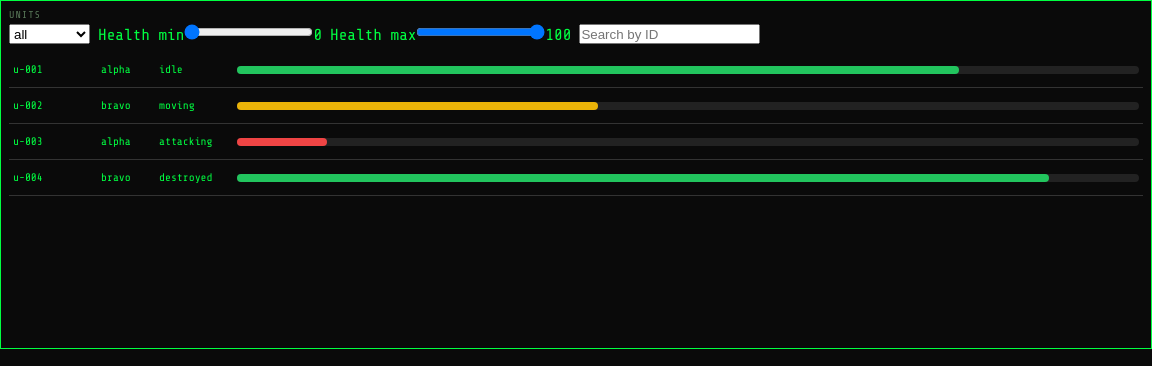
UNITS-01: Filter bar › UNITS-01-e: changing health max hides units outside the health range
Set the slider labelled "Health max 100" to "50" at (481, 32), box [416,24,546,40]
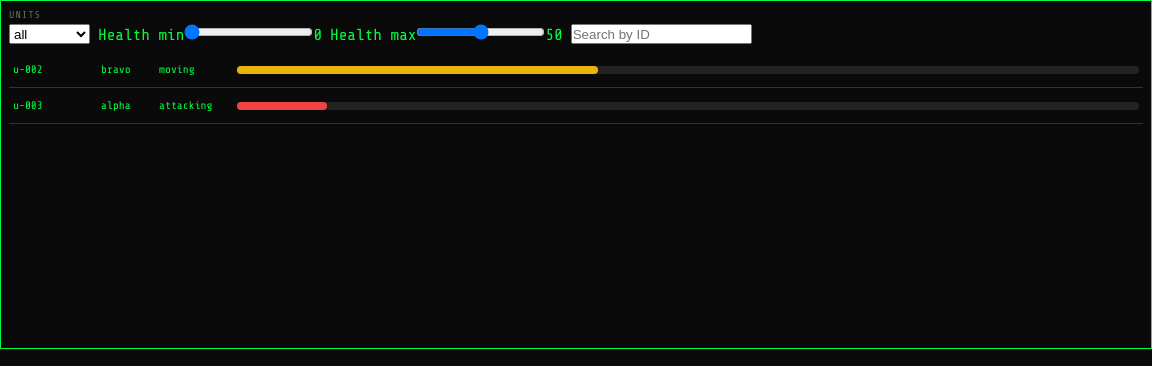
Expected: the text "u-002" is shown, [13,63,43,76]
Result: the text "u-001" is gone
